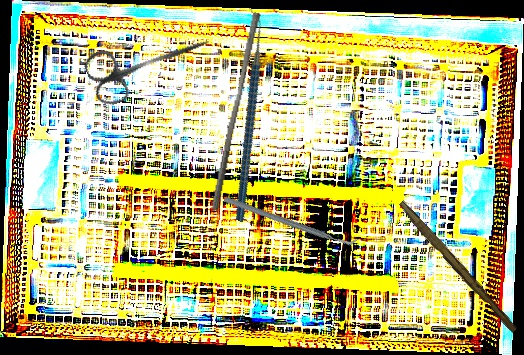Chopper: (166, 7, 326, 223), (222, 153, 360, 288)
Iris Scissors: (81, 13, 218, 110)
Pusher: (211, 10, 261, 213)
Scalpel Handle: (394, 200, 521, 334)
